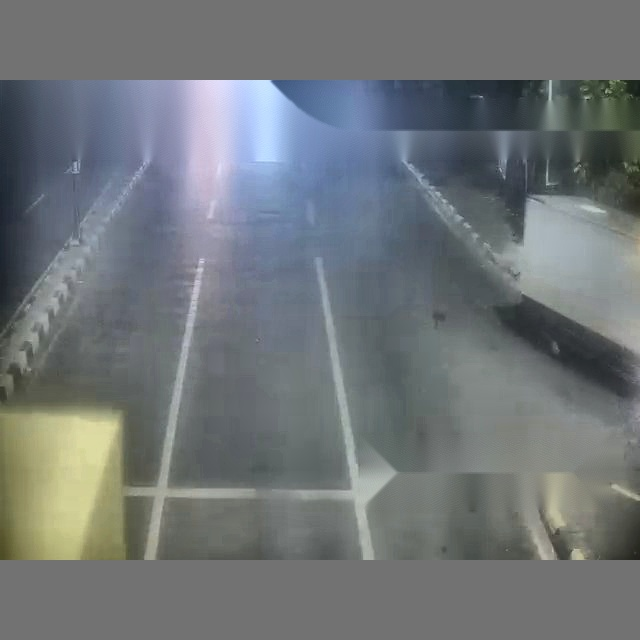Bis: (67, 86, 603, 540)
